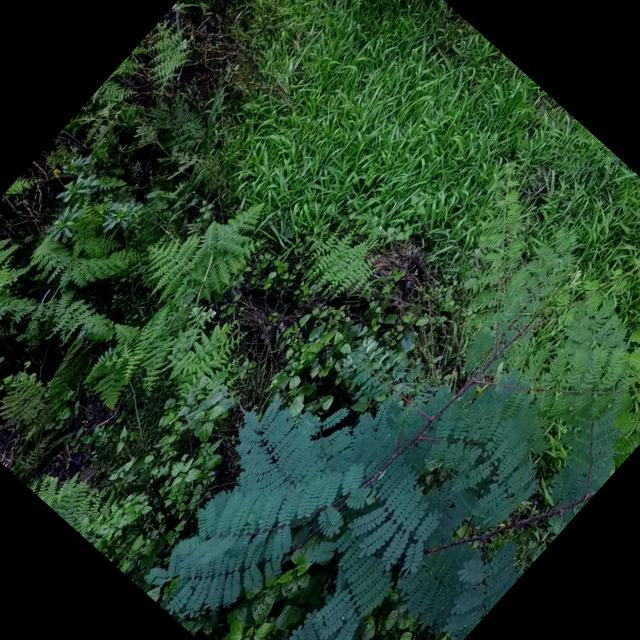Mysore-Thorn-Weed: (103, 140, 640, 640)
